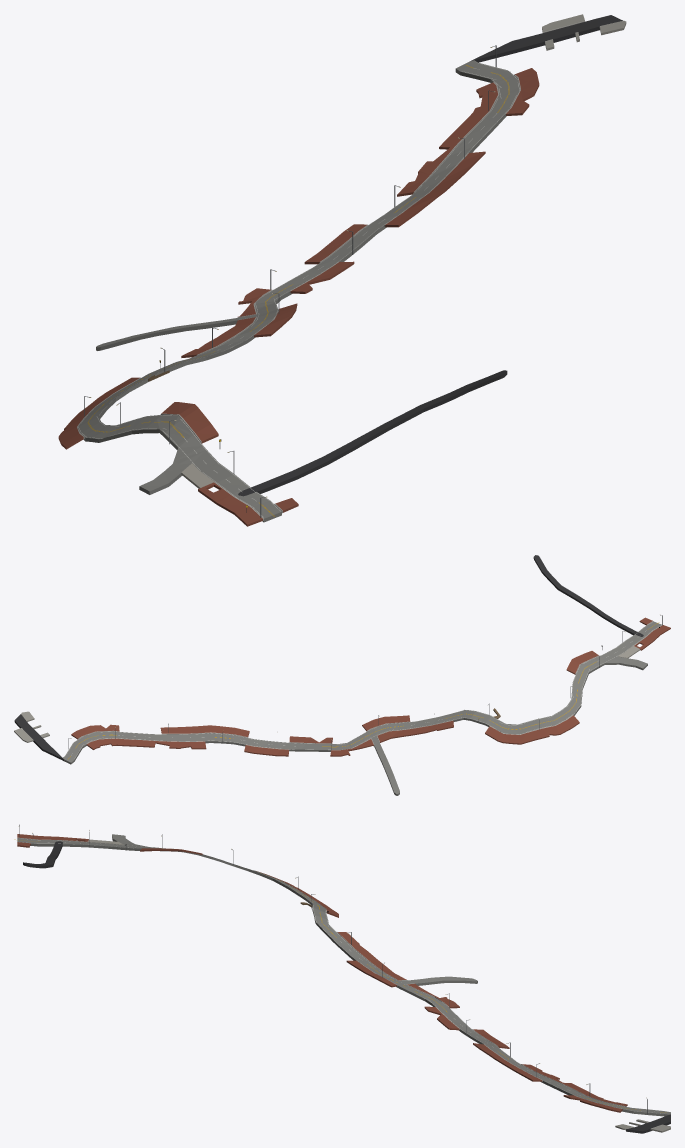
3 renders of one model, top to bottom at view 1: azimuth 30°, elevation 25°; view 2: azimuth 150°, elevation 25°; view 3: azimuth 270°, elevation 25°, orthographic. The views are drawn at different scales.
Size of the model in its own units: 293 by 69.44 by 293.
